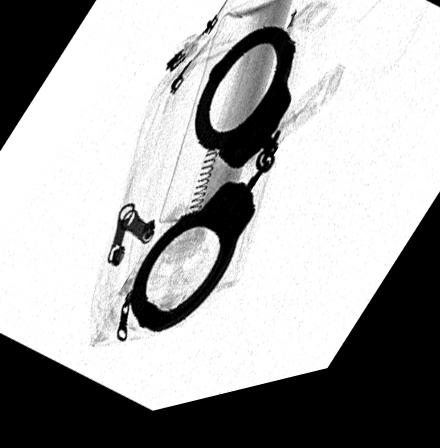HandCuffs: (130, 38, 298, 341)
